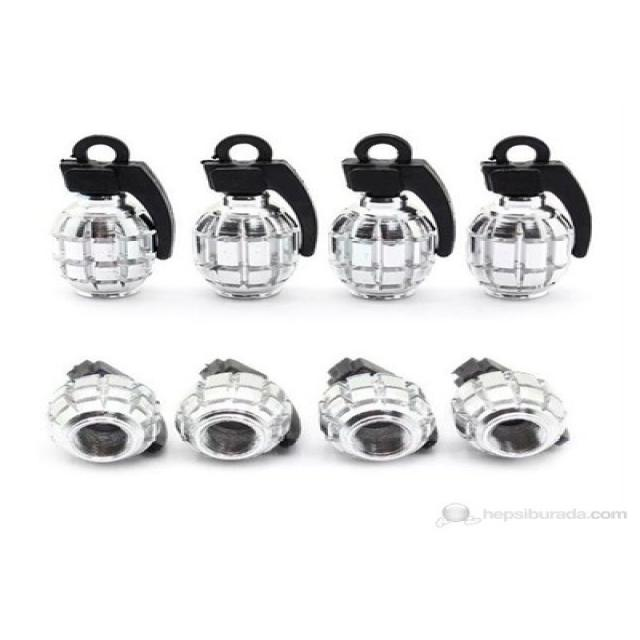grenade: (462, 134, 596, 311), (439, 353, 591, 461)
